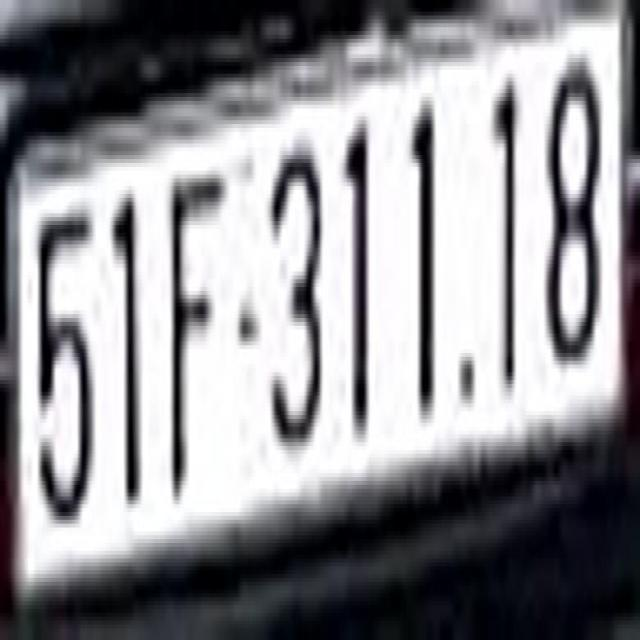1: (111, 171, 147, 516), (342, 112, 372, 446), (492, 78, 522, 392), (409, 85, 436, 423)
3: (268, 143, 320, 454)
5: (38, 198, 92, 516)
8: (549, 50, 599, 368)
F: (164, 147, 224, 477)
